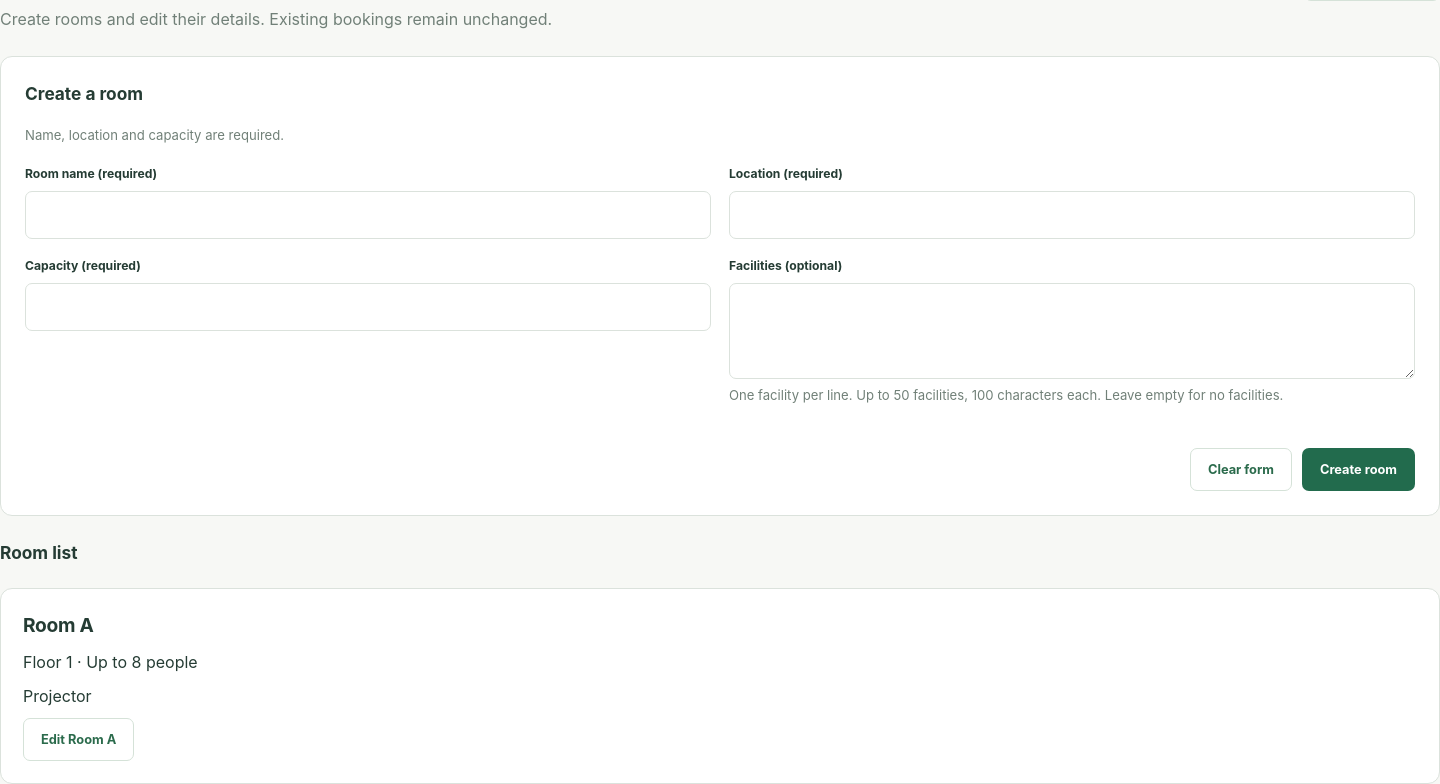
Test: TC13 / TC14 admin room UI › prefills edit, sends PATCH fields and supports clearing facilities
(page scrolled)
Click the button "Edit Room A": (79, 739) [23,718,134,761]
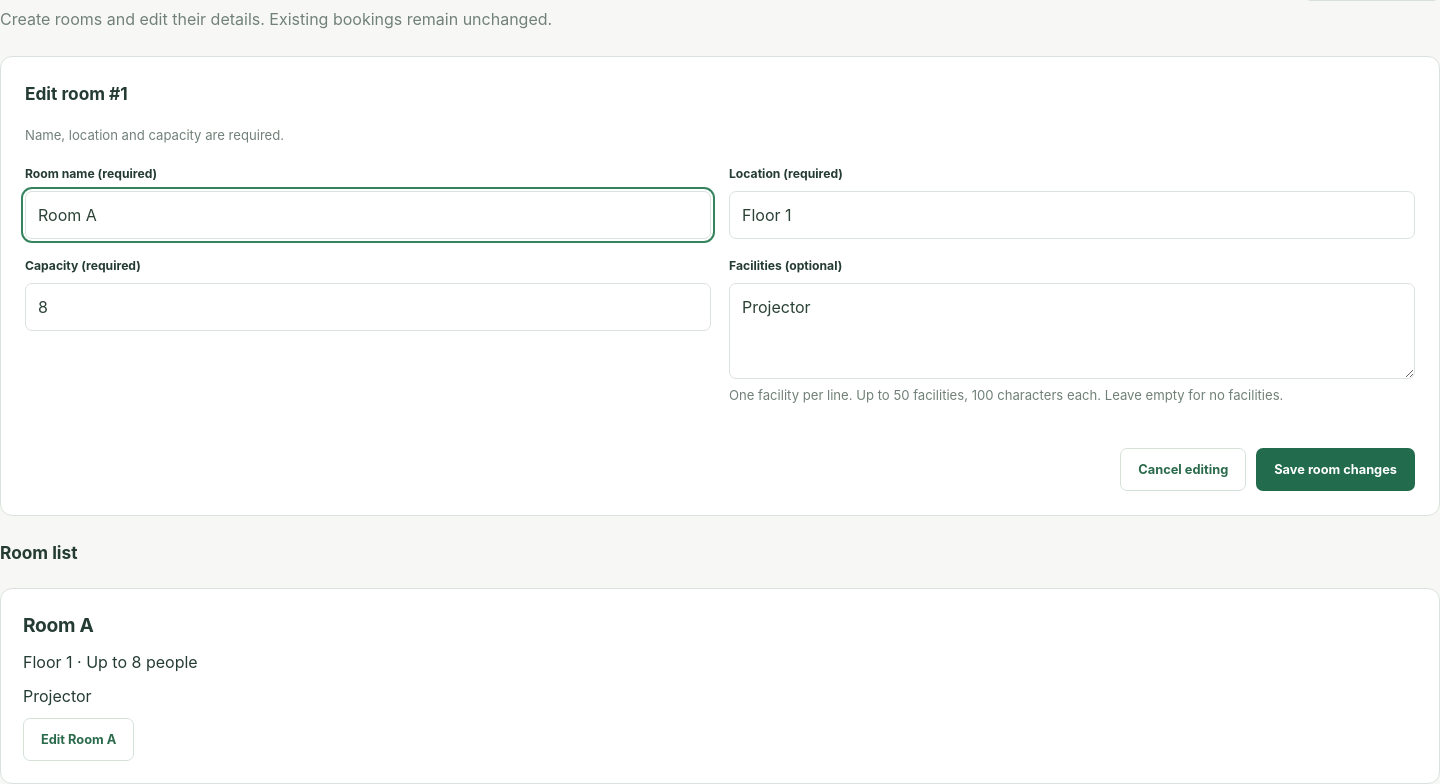
Now the field labelled "Room name (required)" holds "Room A", box [25,191,711,239]
Replace the text in the number field labelled "Capacity (required)" with "20": (368, 307) [25,283,711,331]
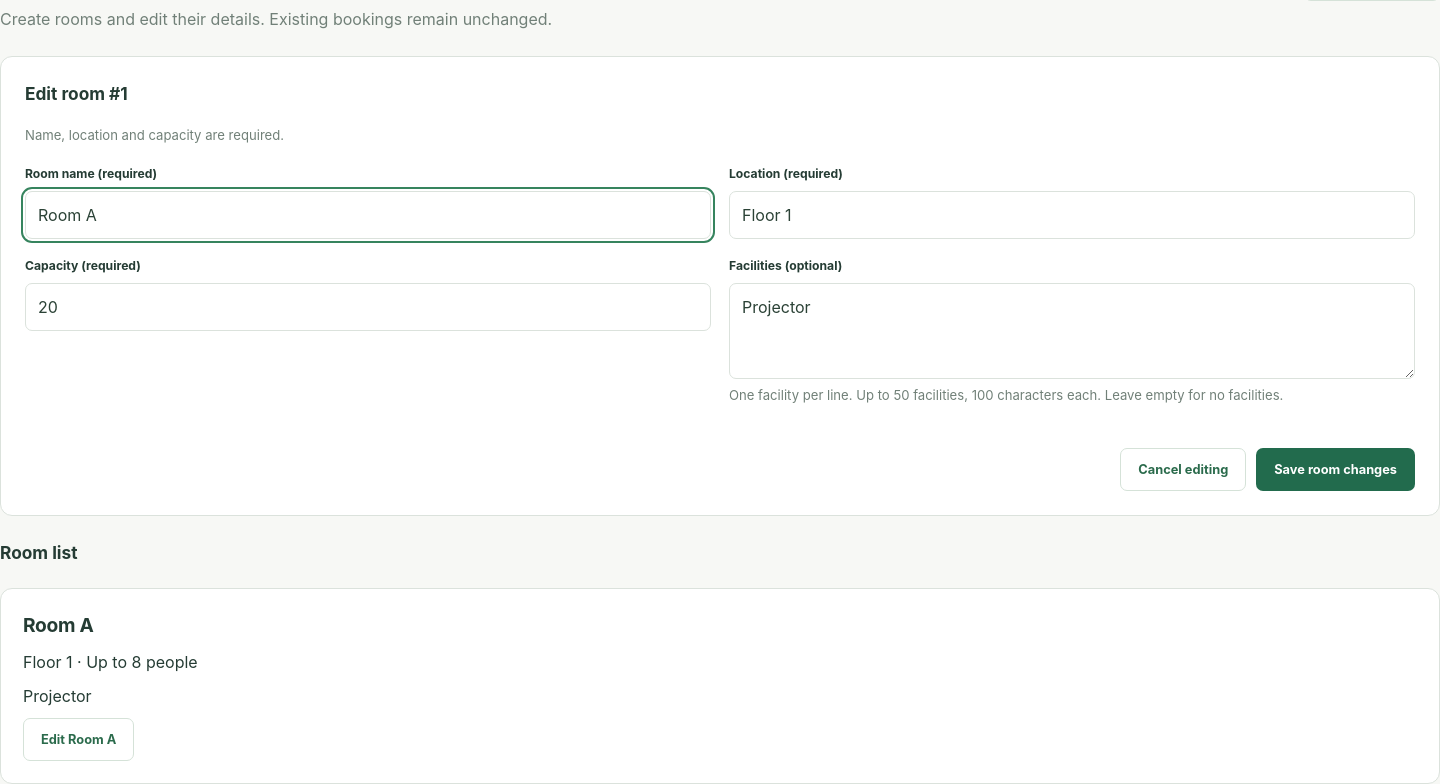
Clear the text box labelled "Facilities (optional)": (1072, 331) [729,283,1415,379]
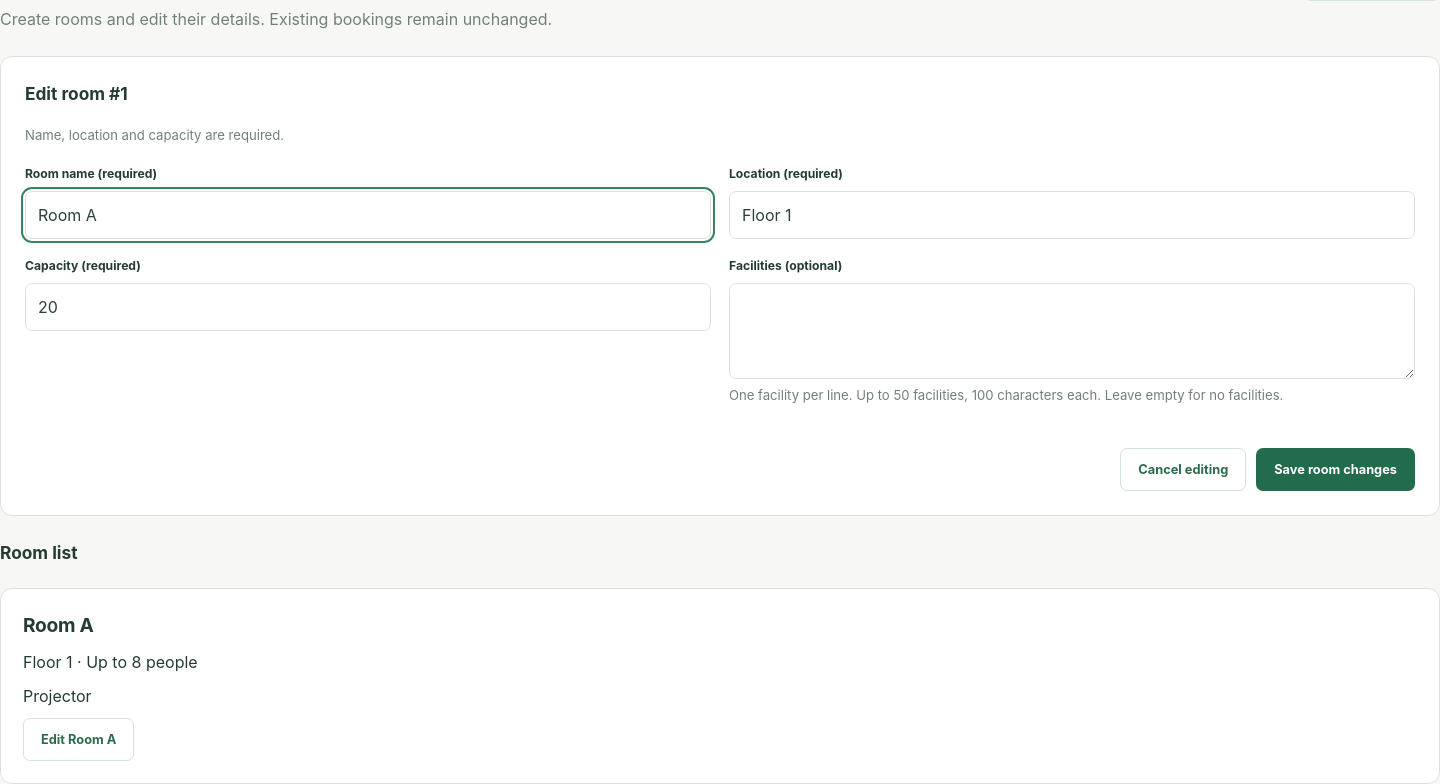
Click the button "Save room changes": (1336, 469) [1256,448,1415,491]
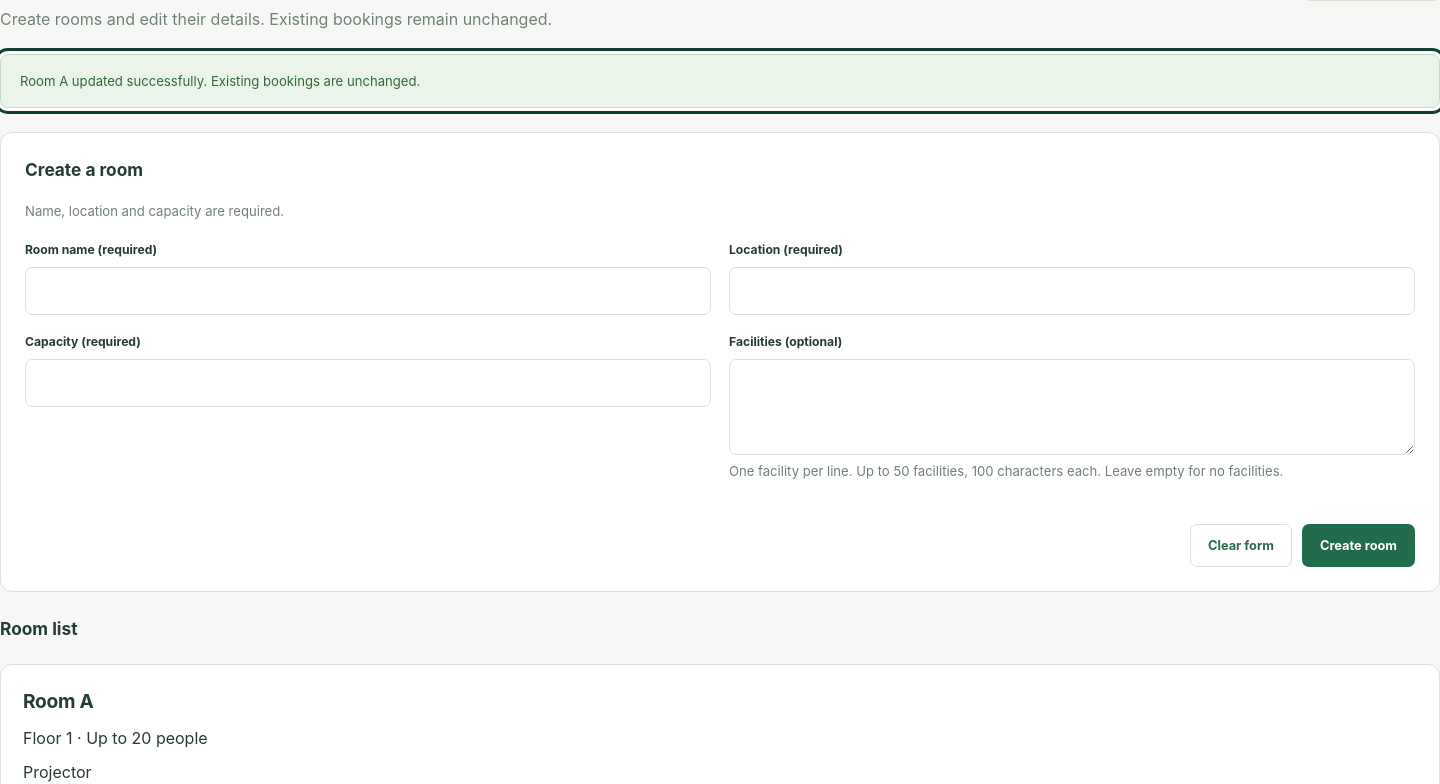
Now the text "Room A updated successfully. Existing bookings are unchanged." is shown, box [0,54,1439,108]
